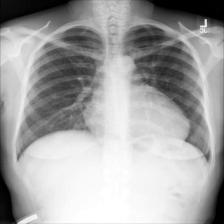normal: (14, 22, 216, 168)
